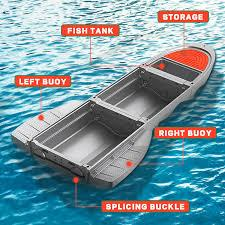fishing boat: (8, 33, 217, 192)
